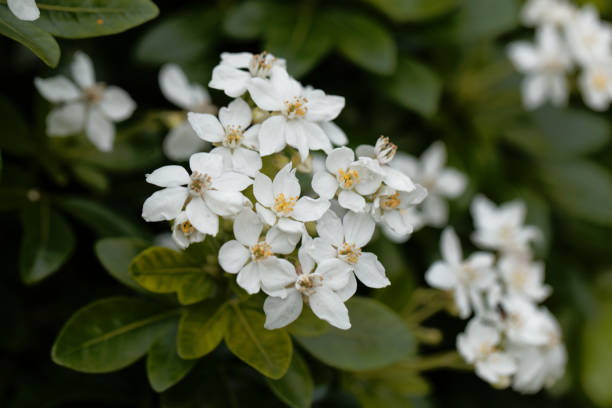flower: (35, 58, 136, 148), (262, 243, 354, 341), (244, 72, 345, 160), (142, 148, 241, 235), (177, 101, 272, 175), (421, 235, 497, 322), (311, 214, 388, 292), (400, 145, 468, 233), (210, 41, 289, 115), (508, 28, 578, 111), (363, 158, 432, 242), (251, 163, 328, 234), (515, 315, 575, 402), (314, 142, 375, 212), (451, 318, 514, 385), (468, 195, 538, 255), (500, 258, 562, 315), (567, 14, 611, 68), (578, 65, 612, 116)
